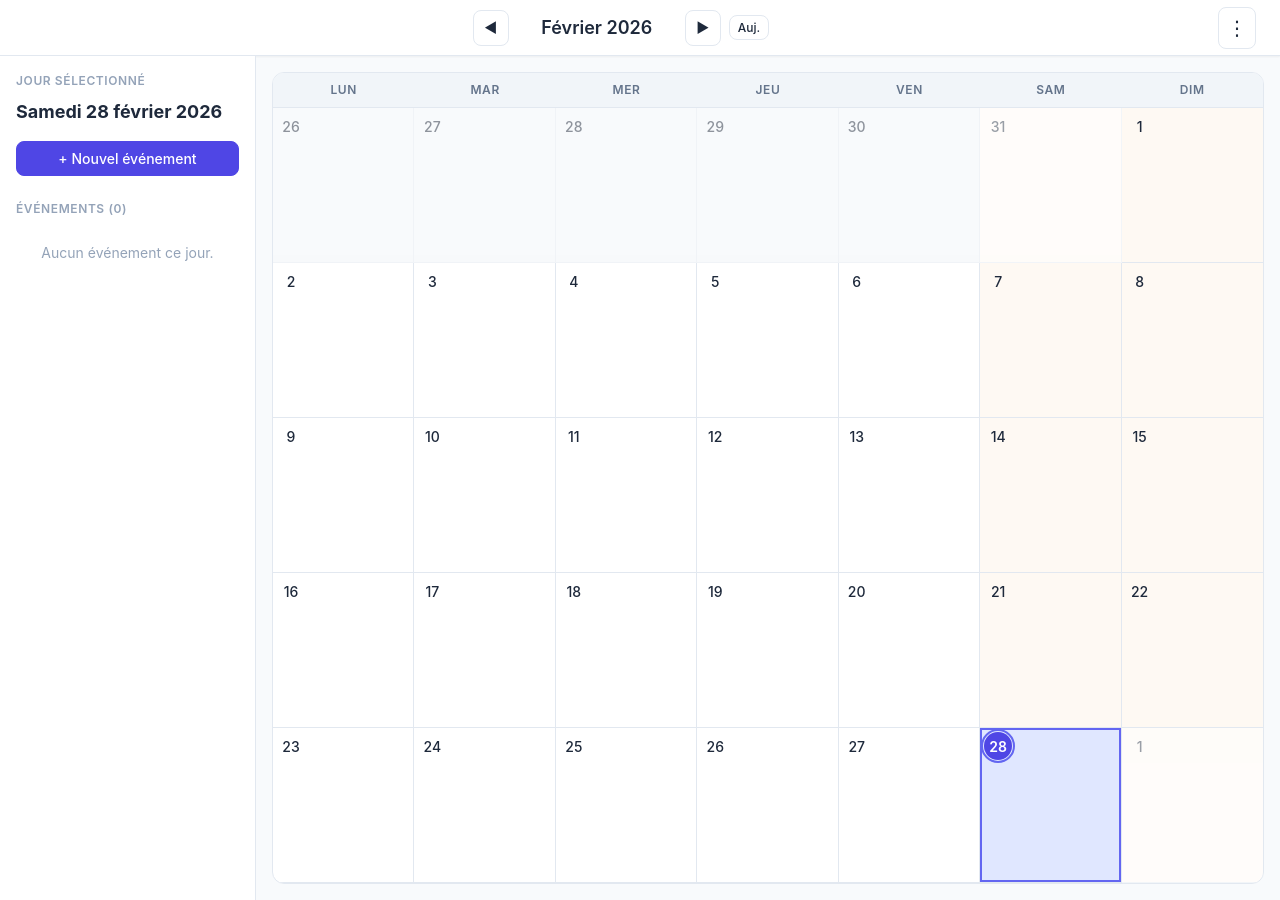
Test: App › shows ICS import option in the menu
Click the button named "Menu" at x=1237, y=28, box [1218,6,1256,48]
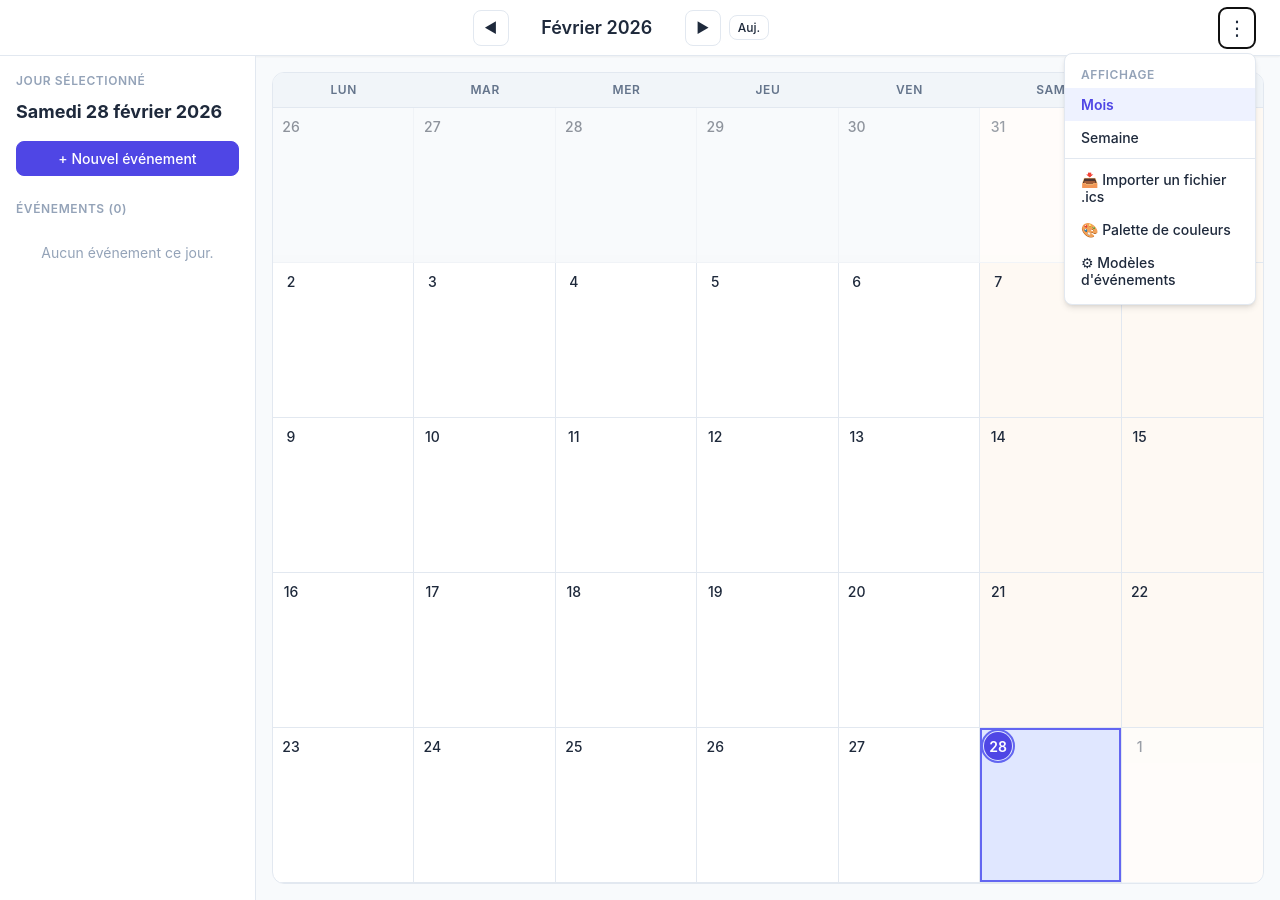
Now the menu item "📥 Importer un fichier .ics" is shown, box [1065,162,1255,212]
